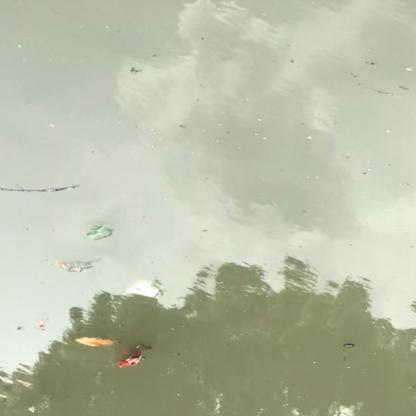Trash: (116, 339, 155, 376), (54, 256, 100, 276), (72, 333, 118, 352), (86, 216, 115, 244)
